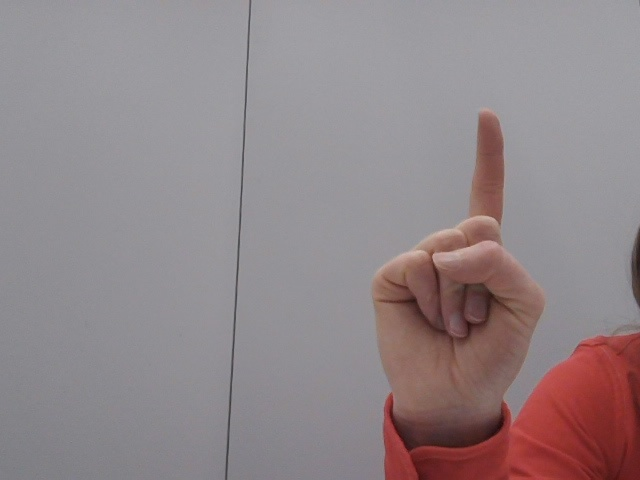up: (341, 103, 559, 471)
